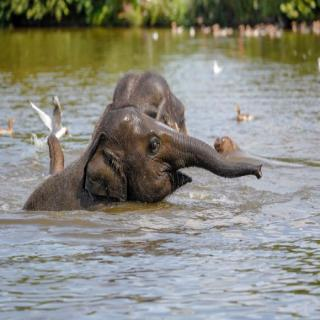Elephant: (22, 107, 285, 228)
